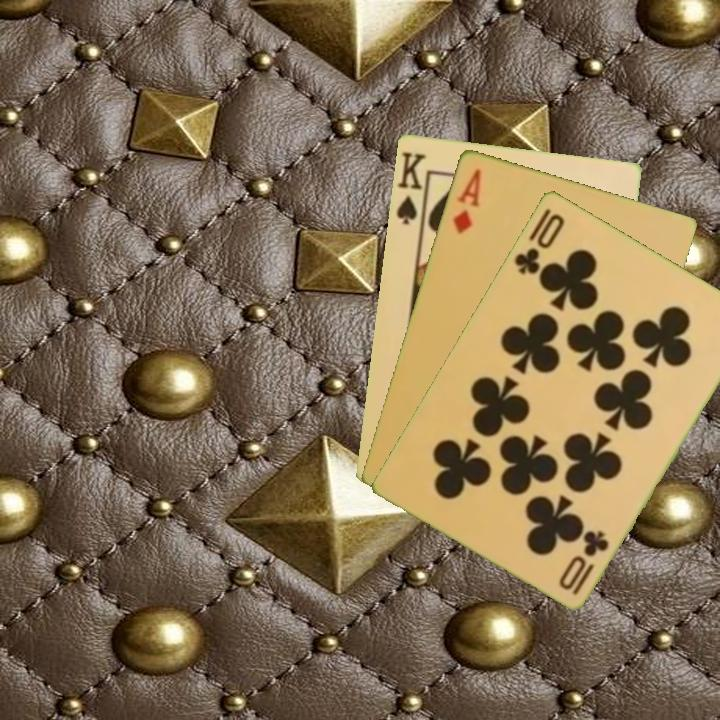10c: (510, 204, 568, 277), (555, 525, 612, 598)
Ad: (449, 164, 484, 236)
Ks: (392, 147, 428, 227)
